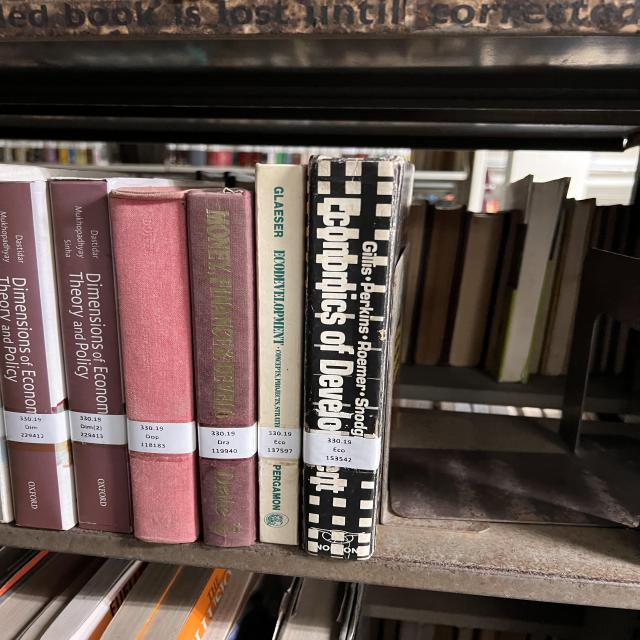Book: (302, 156, 413, 560), (48, 178, 173, 532), (108, 188, 200, 544), (0, 166, 77, 530), (187, 189, 257, 548), (255, 165, 307, 545)
Label: (303, 431, 382, 471), (127, 420, 197, 454), (3, 410, 70, 444), (198, 422, 257, 459), (68, 411, 127, 445), (258, 426, 302, 459)
